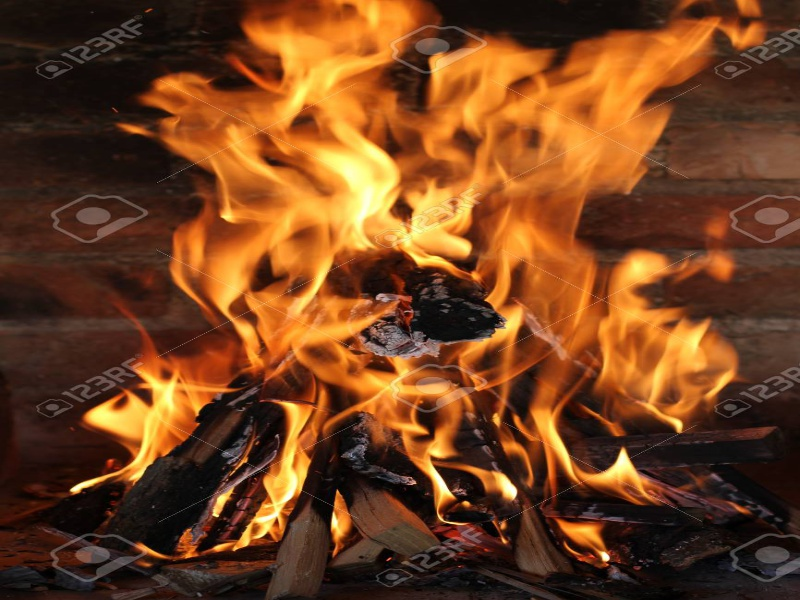fire: (71, 5, 769, 559)
